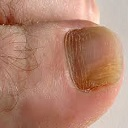Nail Fungal Infection: (66, 26, 120, 85)
